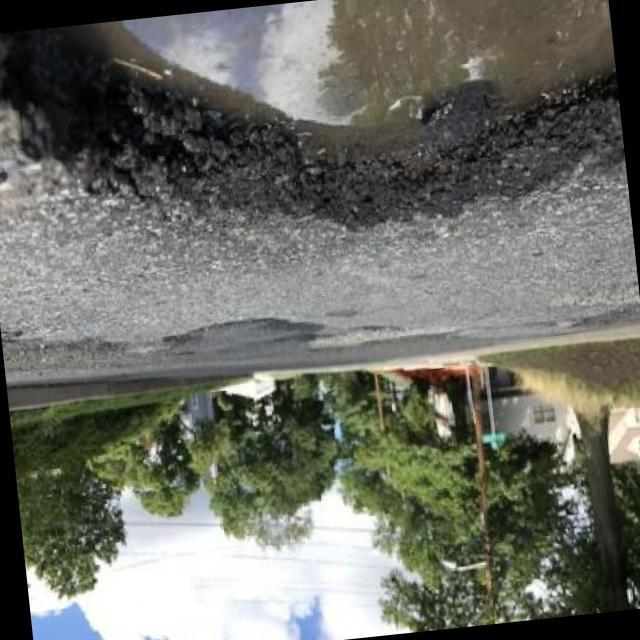pothole: (0, 0, 626, 239)
